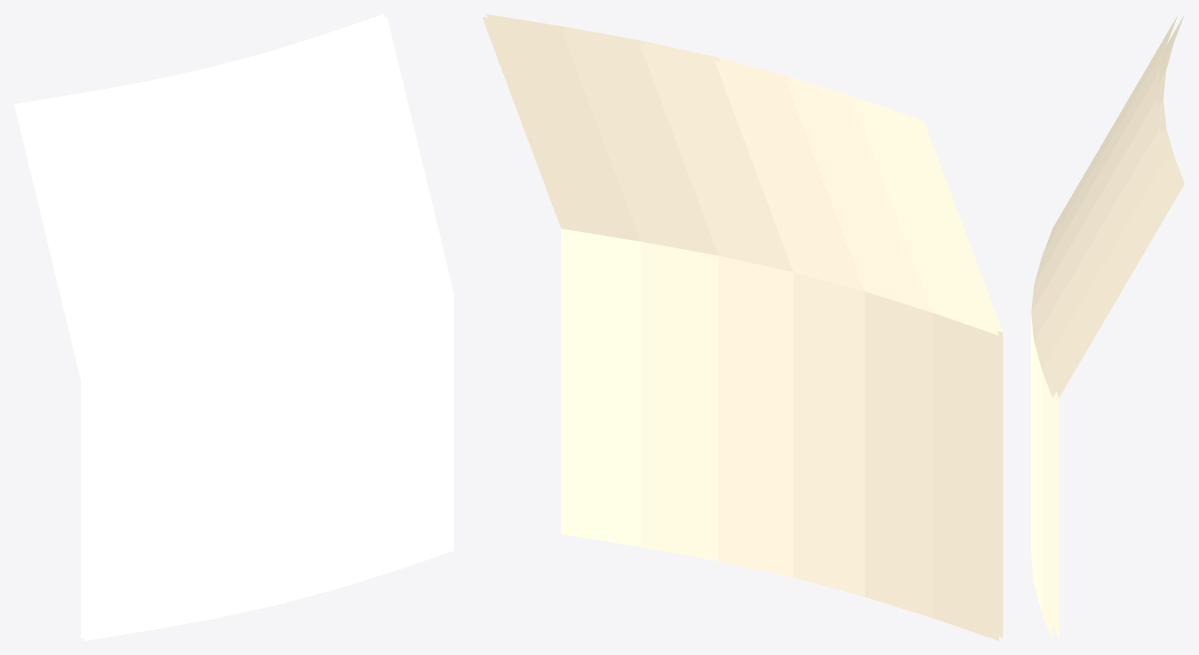
The model's file is note.glb.
The picture shows the model from 3 angles, left to right: view 1: azimuth 30°, elevation 25°; view 2: azimuth 150°, elevation 25°; view 3: azimuth 270°, elevation 25°; orthographic projection. The views are drawn at different scales.
Parts seen in each view (by area): view 1: HWG_Note; view 2: HWG_Note; view 3: HWG_Note.
Part boxes in pixels (x1,y1,x2,y2): HWG_Note: (14,14,453,640); HWG_Note: (482,14,1002,640); HWG_Note: (1031,15,1184,640).
Bounding box in the file's own units: 0.075 × 0.0941 × 0.0287.
